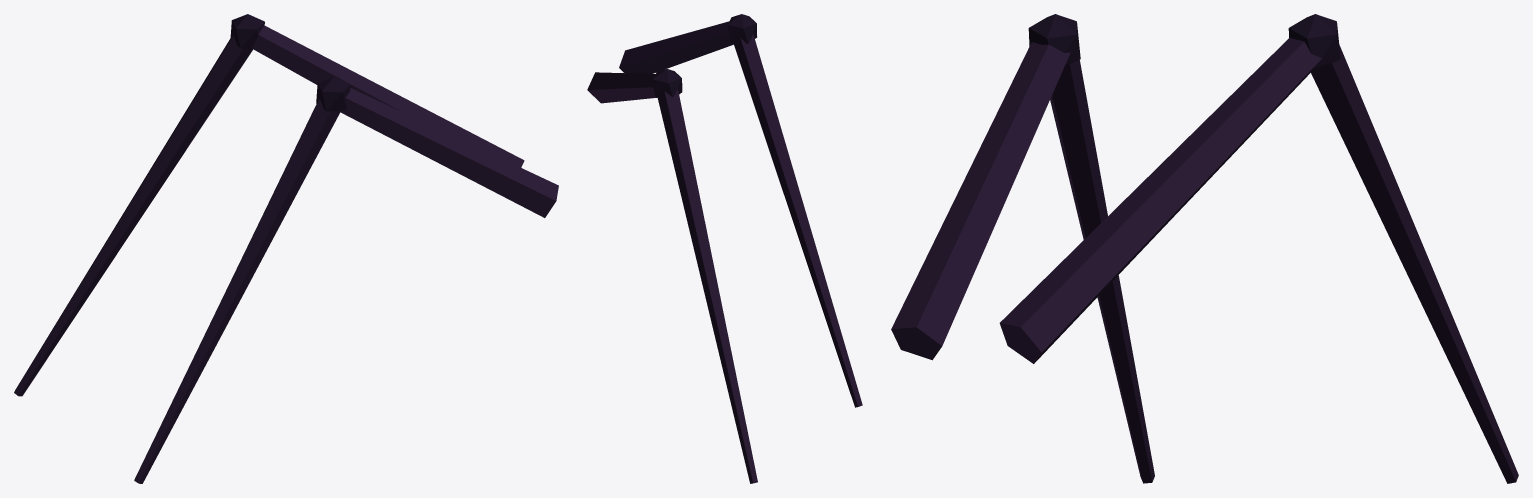
The model's file is spider_4_leg_br.glb.
3 renders of one model, left to right at view 1: azimuth 30°, elevation 25°; view 2: azimuth 150°, elevation 25°; view 3: azimuth 270°, elevation 25°, orthographic. The views are drawn at different scales.
Parts seen in each view (by area): view 1: spider_4_leg_br; view 2: spider_4_leg_br; view 3: spider_4_leg_br.
Part boxes in pixels (<box>): spider_4_leg_br: <box>14,14,558,483</box>; spider_4_leg_br: <box>587,14,862,483</box>; spider_4_leg_br: <box>891,14,1518,483</box>.
Bounding box in the file's own units: 0.6376 × 0.6759 × 0.6519.
